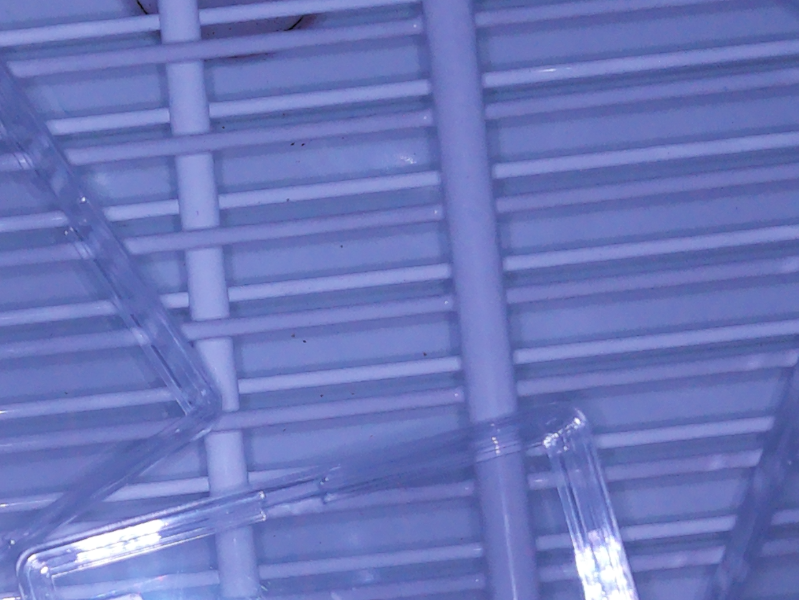plate: (15, 394, 639, 600), (1, 66, 224, 570), (709, 366, 799, 599)
